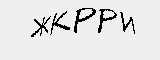Ж: (29, 15, 49, 37)
И: (120, 12, 137, 37)
К: (50, 10, 71, 34)
Р: (71, 4, 95, 36), (95, 7, 119, 36)
